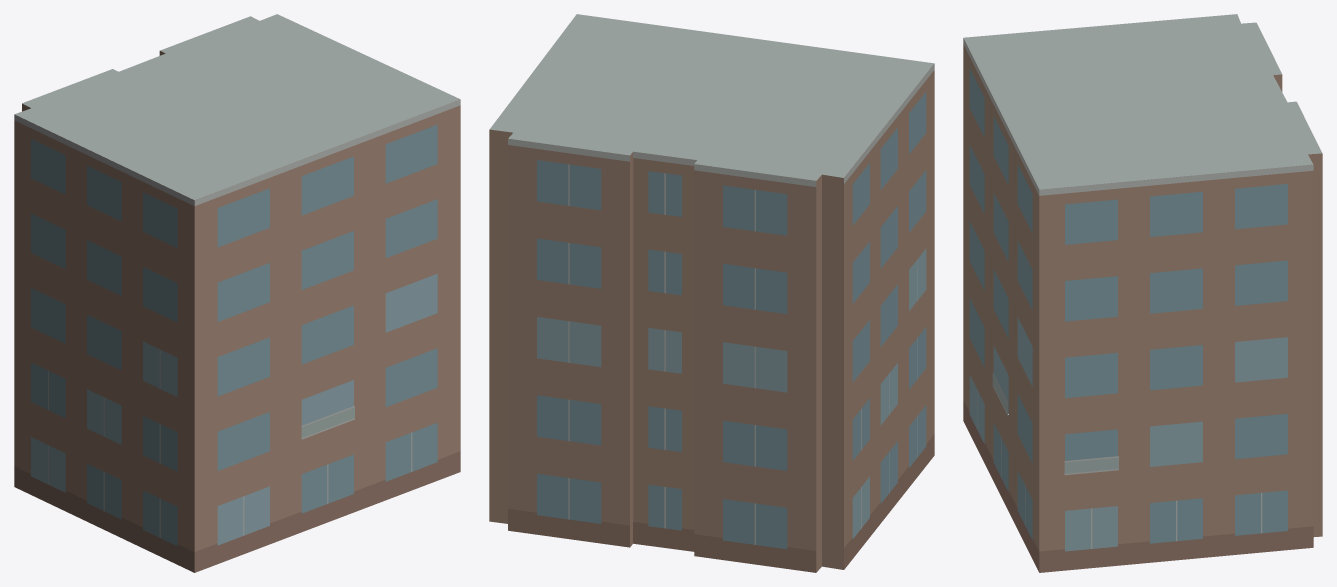
File: survey-upis-33017307.glb
3 renders of one model, left to right at view 1: azimuth 30°, elevation 25°; view 2: azimuth 150°, elevation 25°; view 3: azimuth 270°, elevation 25°, orthographic. The views are drawn at different scales.
Visible parts, largest first — view 1: survey-upis-33017307.tmp; view 2: survey-upis-33017307.tmp; view 3: survey-upis-33017307.tmp.
Part boxes in pixels (bbox=[...]): survey-upis-33017307.tmp: bbox=[14, 14, 460, 572]; survey-upis-33017307.tmp: bbox=[489, 14, 934, 572]; survey-upis-33017307.tmp: bbox=[963, 14, 1322, 572].
Size of the model in its own units: 14.96 by 15.2 by 12.93.
